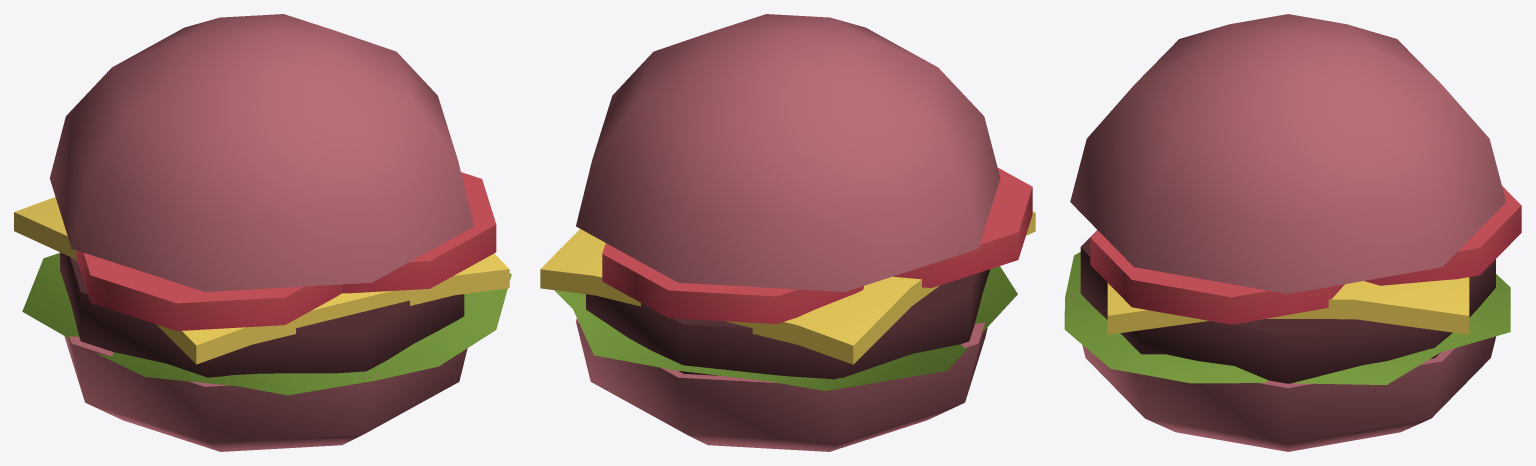
The model's file is SM_Hamburger_01.fbx.
The picture shows the model from 3 angles, left to right: view 1: azimuth 30°, elevation 25°; view 2: azimuth 150°, elevation 25°; view 3: azimuth 270°, elevation 25°; orthographic projection.
Parts seen in each view (by area): view 1: SM_Hamburger_01; view 2: SM_Hamburger_01; view 3: SM_Hamburger_01.
Part boxes in pixels (box(x1,y1,x2,y2)): SM_Hamburger_01: box(14, 14, 511, 451); SM_Hamburger_01: box(540, 14, 1035, 451); SM_Hamburger_01: box(1064, 14, 1521, 451).
Bounding box in the file's own units: 12.53 × 10.45 × 12.44.
